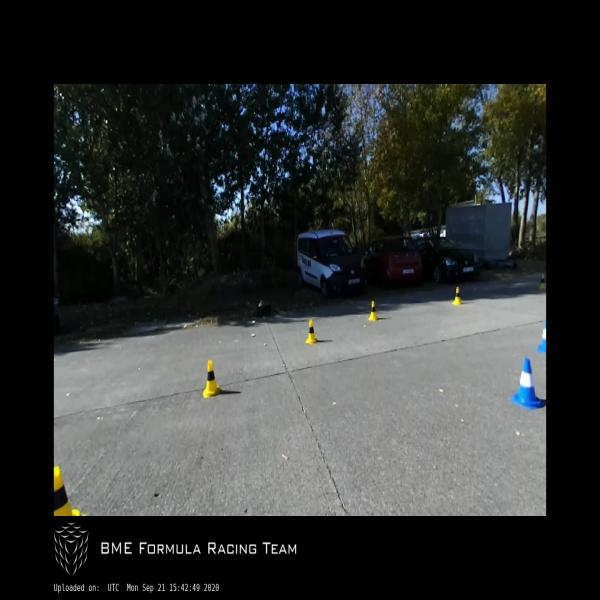blue_cone: (510, 358, 545, 409), (537, 320, 546, 353)
yellow_cone: (54, 466, 87, 516), (203, 360, 220, 398), (305, 319, 318, 345), (368, 300, 378, 320), (452, 287, 463, 305), (539, 274, 546, 289)
